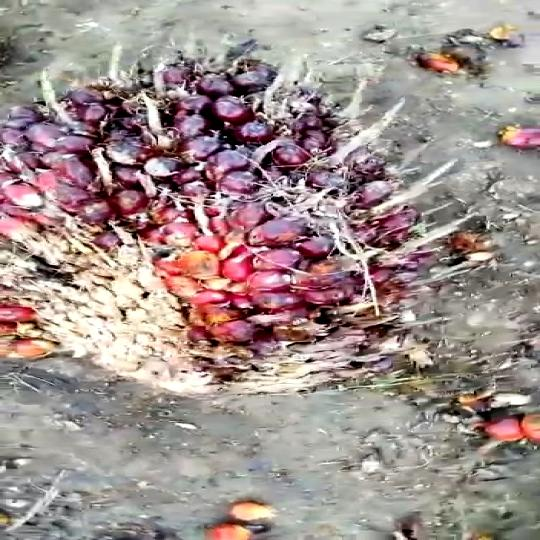masak: (0, 49, 484, 406)
